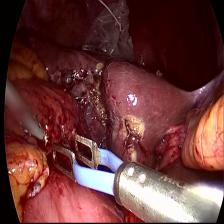Bipolar: (48, 121, 144, 202)
Irrigator: (10, 91, 46, 155)
Specimen Bag: (71, 0, 140, 66)
